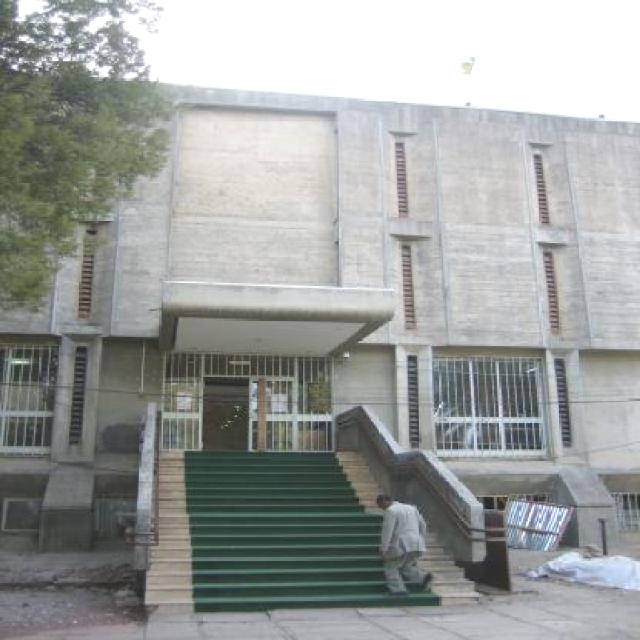stair: (145, 452, 480, 616)
